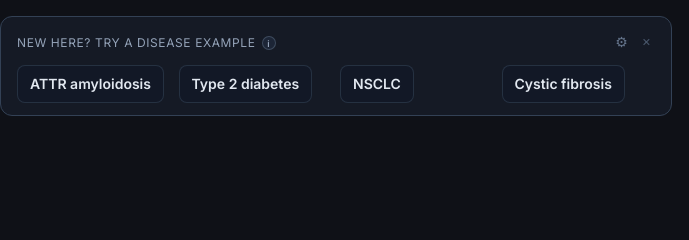
Scenario: GuidedTour › gear switches to rare-only and persists tourExampleSet
Expected: the text "ATTR amyloidosis" is shown, top-left (30, 74), bottom-right (151, 94)
Click the button named "Example set settings".
click(622, 42)  # box top-left (609, 33), bottom-right (634, 51)
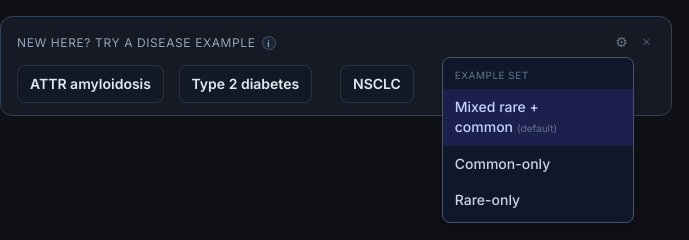
Click the menu item "Rare-only".
click(487, 200)  # box top-left (443, 182), bottom-right (532, 218)
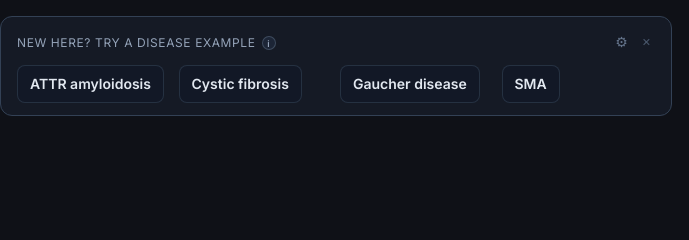
Expected: the text "Gaucher disease" is shown, top-left (353, 74), bottom-right (467, 94)
Expected: the text "SMA" is shown, top-left (514, 74), bottom-right (547, 94)
Expected: the link "Type 2 diabetes" is gone
